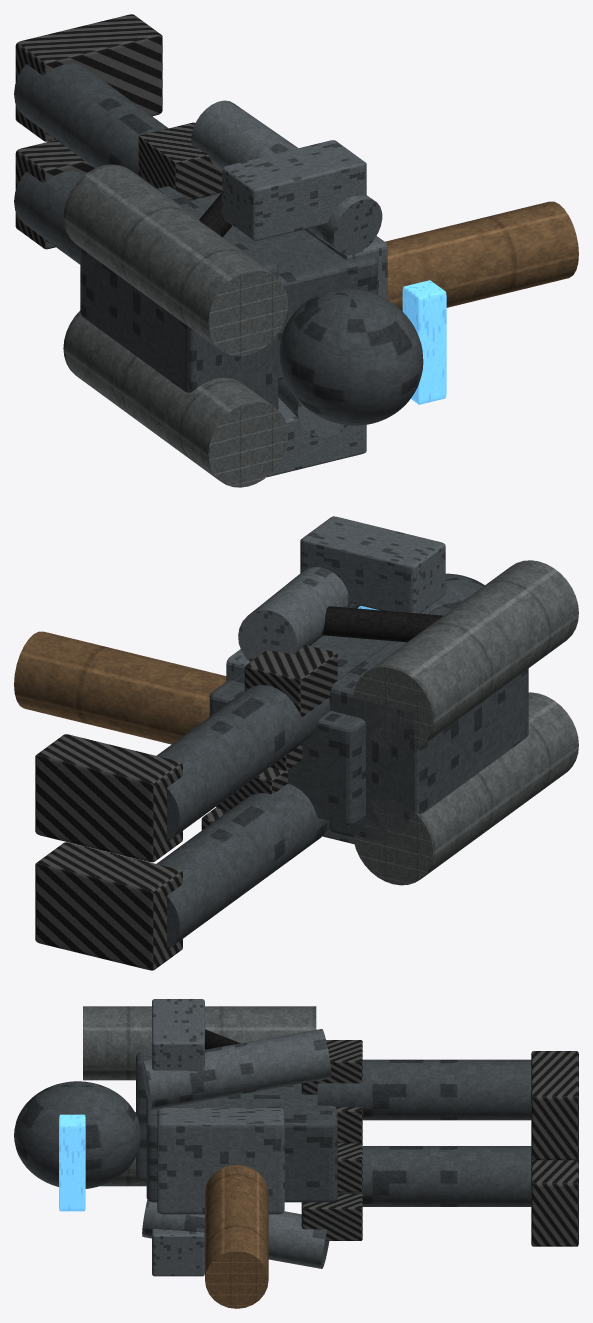
Rendered from s-u08-specter-flamethrower-lod0.glb.
3 renders of one model, top to bottom at view 1: azimuth 30°, elevation 25°; view 2: azimuth 150°, elevation 25°; view 3: azimuth 270°, elevation 25°, orthographic. The views are drawn at different scales.
Parts seen in each view (by area): view 1: fuel_tank_1, fuel_tank_-1, soldier_0_helmet, soldier_0_flamer, soldier_0_backpack, soldier_0_shoulder_1, soldier_0_leg_1, soldier_0_boot_1, soldier_0_arm_1, soldier_0_torso, soldier_0_pouch_3, soldier_0_visor (+6 smaller); view 2: fuel_tank_1, soldier_0_backpack, fuel_tank_-1, soldier_0_flamer, soldier_0_boot_1, soldier_0_boot_-1, soldier_0_leg_-1, soldier_0_leg_1, soldier_0_shoulder_1, soldier_0_torso, soldier_0_arm_1, soldier_0_pouch_3 (+3 smaller); view 3: soldier_0_leg_1, soldier_0_chest, soldier_0_leg_-1, soldier_0_helmet, soldier_0_arm_1, soldier_0_flamer, soldier_0_torso, fuel_tank_1, soldier_0_boot_1, soldier_0_boot_-1, soldier_0_arm_-1, soldier_0_shoulder_1 (+8 smaller).
Part boxes in pixels (x1,y1,x2,y2): fuel_tank_1: (63,164,288,356); fuel_tank_-1: (63,310,288,487); soldier_0_helmet: (279,288,423,425); soldier_0_flamer: (385,201,578,310); soldier_0_backpack: (80,186,278,408); soldier_0_shoulder_1: (222,140,366,240); soldier_0_leg_1: (14,63,221,200); soldier_0_boot_1: (15,14,162,141); soldier_0_arm_1: (191,100,382,255); soldier_0_torso: (191,193,377,379); soldier_0_pouch_3: (138,122,222,199); soldier_0_visor: (402,280,446,404); fuel_tank_1: (353,560,578,752); soldier_0_backpack: (329,606,528,848); fuel_tank_-1: (353,692,578,885); soldier_0_flamer: (14,631,226,744); soldier_0_boot_1: (35,734,182,862); soldier_0_boot_-1: (35,842,182,970); soldier_0_leg_-1: (156,783,329,949); soldier_0_leg_1: (156,685,330,841); soldier_0_shoulder_1: (300,516,445,613); soldier_0_torso: (209,635,390,825); soldier_0_arm_1: (238,567,360,661); soldier_0_pouch_3: (244,645,337,716); soldier_0_leg_1: (317,1059,531,1120); soldier_0_chest: (157,1108,284,1214); soldier_0_leg_-1: (337,1146,531,1206); soldier_0_helmet: (14,1081,141,1188); soldier_0_arm_1: (142,1029,331,1110); soldier_0_flamer: (205,1165,268,1308); soldier_0_torso: (146,1083,337,1202); fuel_tank_1: (83,1006,316,1080); soldier_0_boot_1: (531,1051,578,1160); soldier_0_boot_-1: (531,1158,578,1246); soldier_0_arm_-1: (142,1200,329,1268); soldier_0_shoulder_1: (152,999,204,1071).
Size of what is drawn, in the model's own units: 1.56 by 0.976 by 2.13.
Materials: 7 (7 with a texture image).
